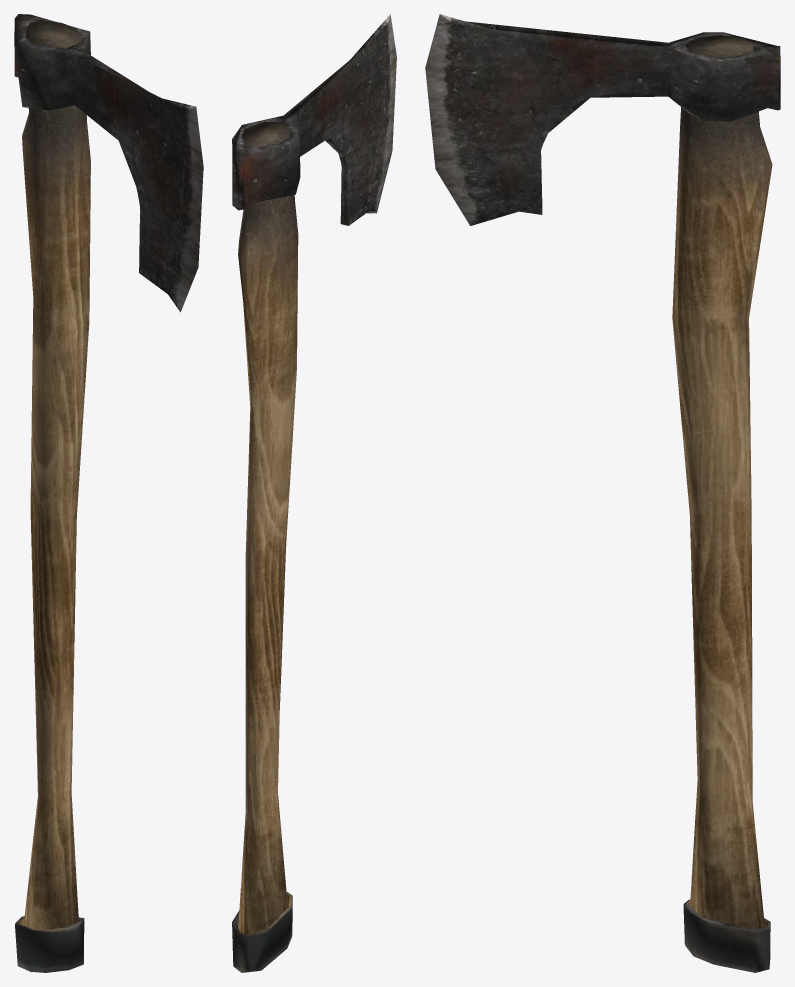
The model's file is wooden_axe.glb.
3 renders of one model, left to right at view 1: azimuth 30°, elevation 25°; view 2: azimuth 150°, elevation 25°; view 3: azimuth 270°, elevation 25°, orthographic. The views are drawn at different scales.
Visible parts, largest first — view 1: wooden_axe; view 2: wooden_axe; view 3: wooden_axe.
Boxes of the visible parts, x1,y1,x2,y2 form: wooden_axe: [14, 14, 203, 972]; wooden_axe: [232, 14, 396, 972]; wooden_axe: [425, 14, 780, 972].
Bounding box in the file's own units: 0.0453 × 0.6301 × 0.2127.
Materials: 1 (1 with a texture image).
